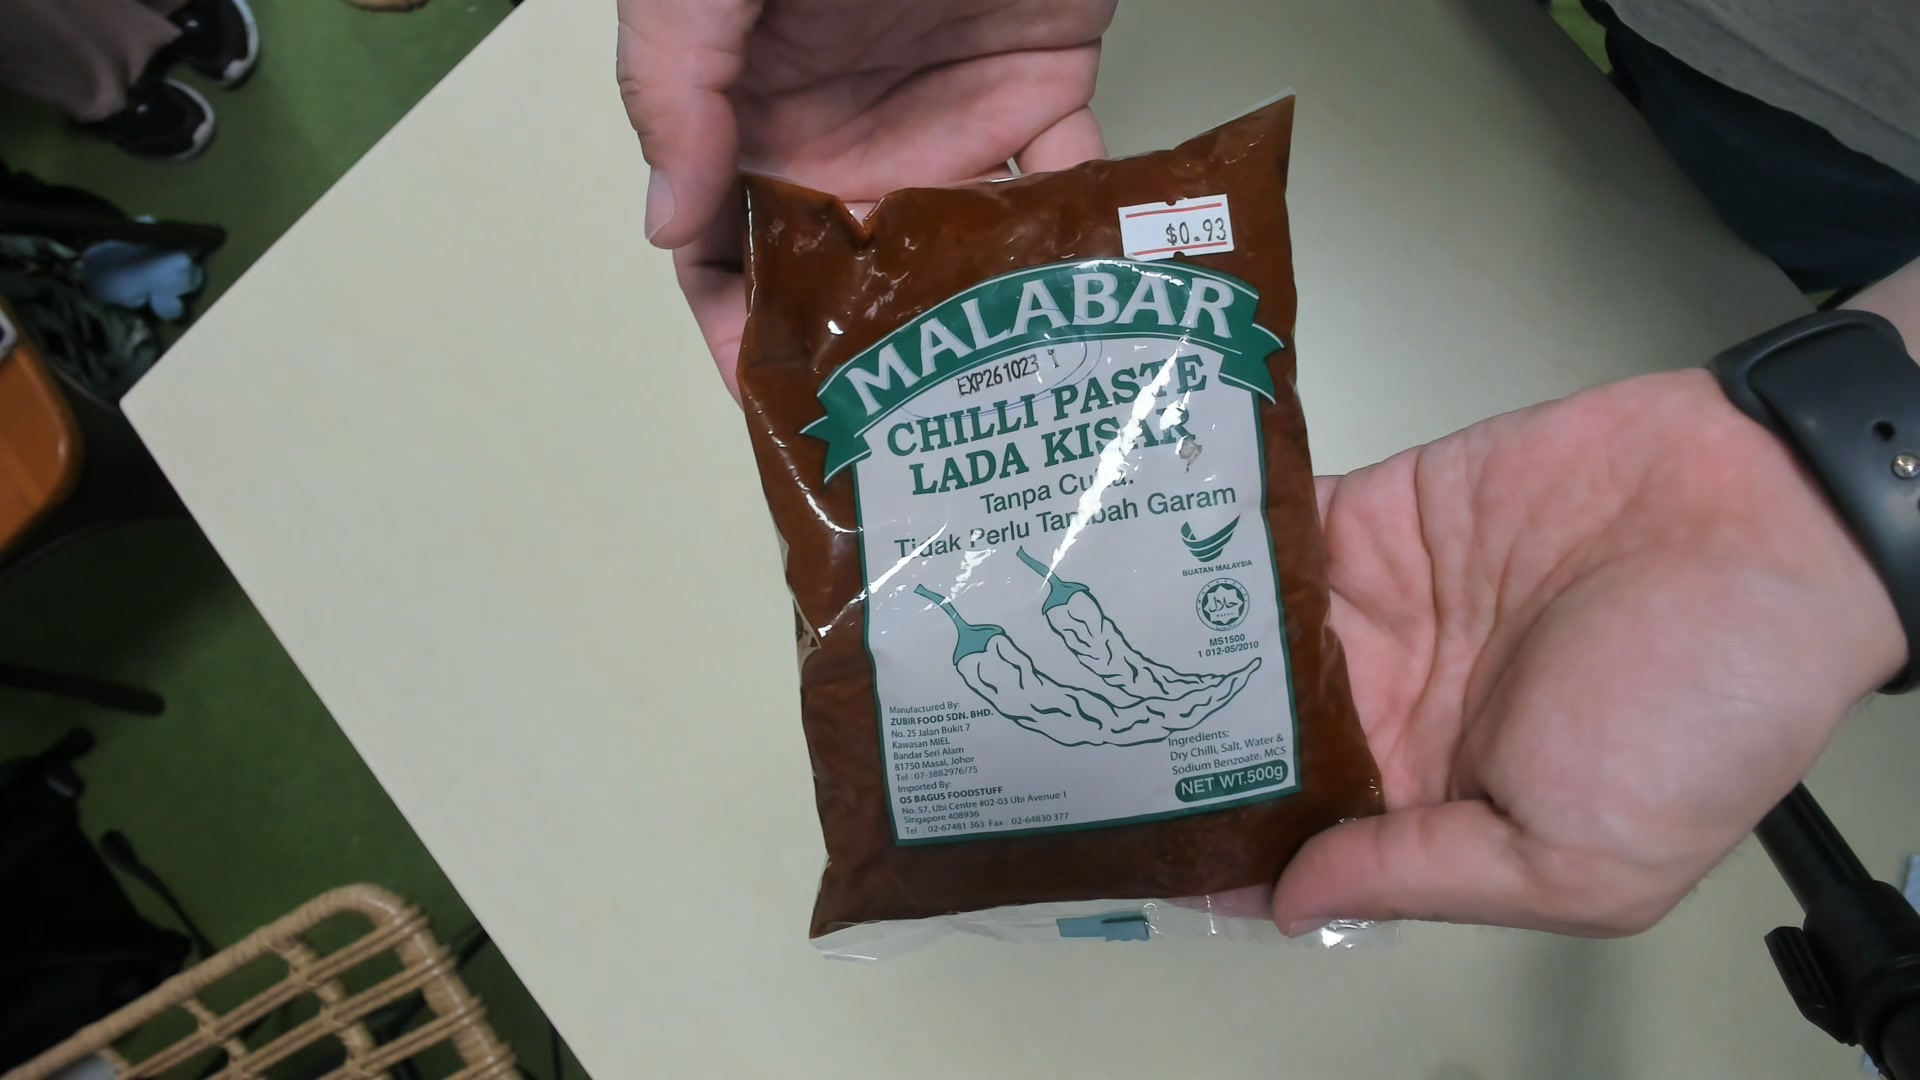OtherSauceDressingSoupbasePaste_500-599g_Halal_NonHealthy: (728, 105, 1391, 969)
